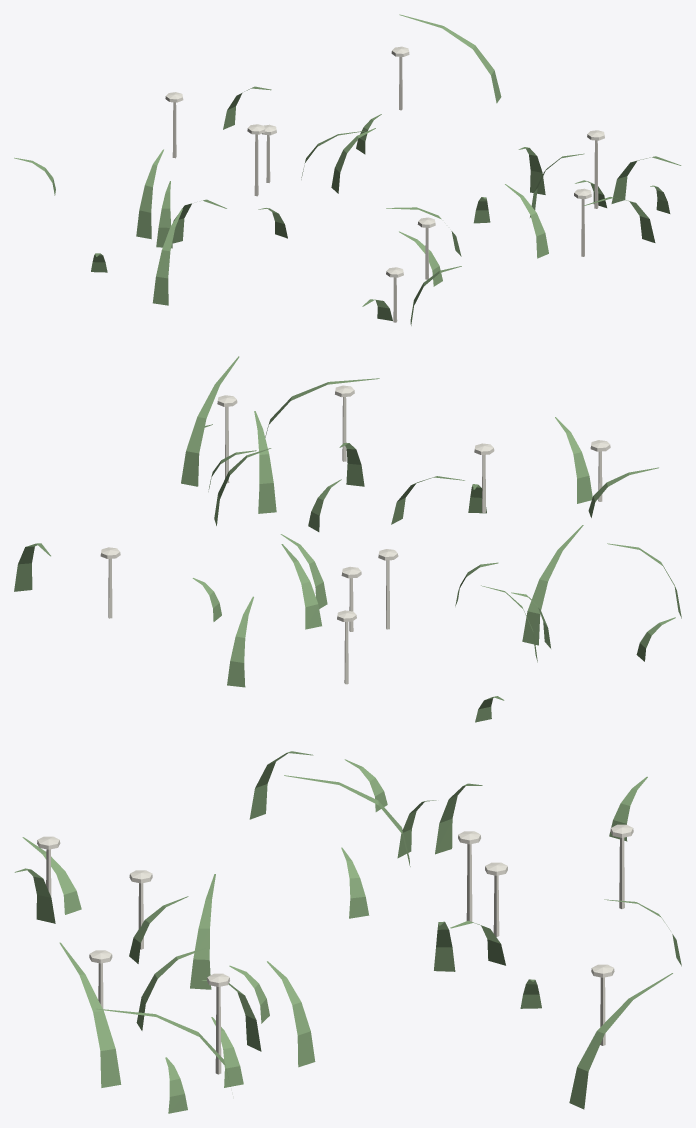
File: clover-patch.glb
3 renders of one model, top to bottom at view 1: azimuth 30°, elevation 25°; view 2: azimuth 150°, elevation 25°; view 3: azimuth 270°, elevation 25°, orthographic. The views are drawn at different scales.
Visible parts, largest first — view 1: clover-patch; view 2: clover-patch; view 3: clover-patch.
Boxes of the visible parts, left/top/right/bottom form: clover-patch: left=14, top=14, right=681, bottom=325; clover-patch: left=14, top=356, right=681, bottom=722; clover-patch: left=14, top=751, right=681, bottom=1113.
Bounding box in the file's own units: 1.06 × 0.1619 × 0.9495.
